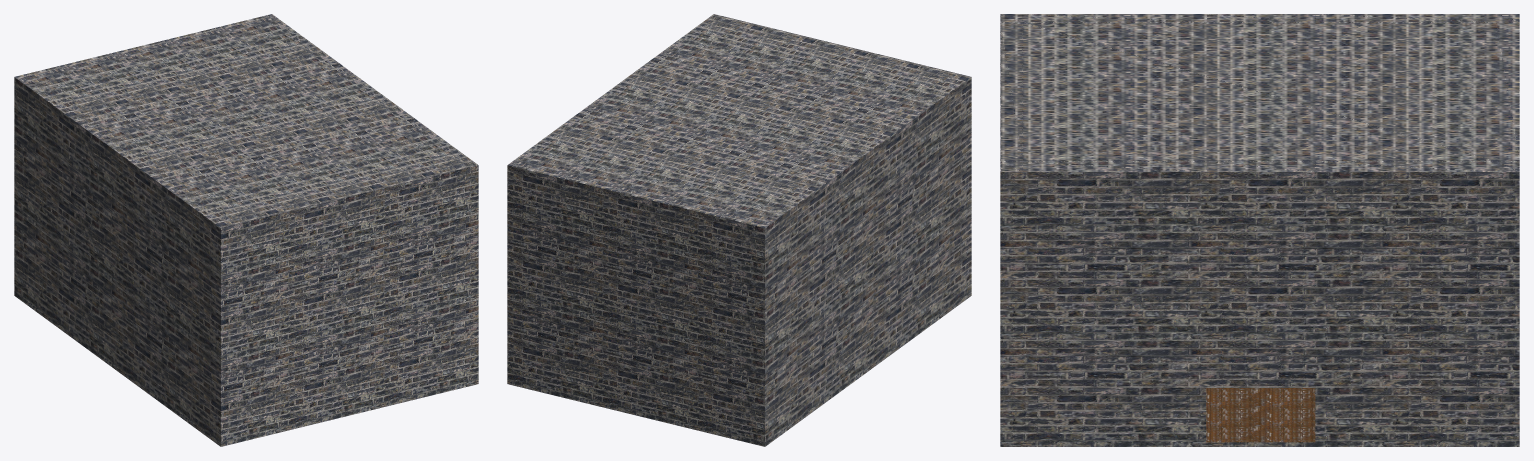
The model's file is Level1House.fbx.
3 views of the same model, side by side, from view 1: azimuth 30°, elevation 25°; view 2: azimuth 150°, elevation 25°; view 3: azimuth 270°, elevation 25° (orthographic). The views are drawn at different scales.
Parts seen in each view (by area): view 1: Cube; view 2: Cube; view 3: Cube.
Boxes of the visible parts, bbox=[...] form: Cube: bbox=[14, 14, 478, 446]; Cube: bbox=[507, 14, 971, 446]; Cube: bbox=[1000, 14, 1519, 446].
Size of the model in its own units: 2788 by 2262 by 3871.
Materials: 2 (2 with a texture image).
